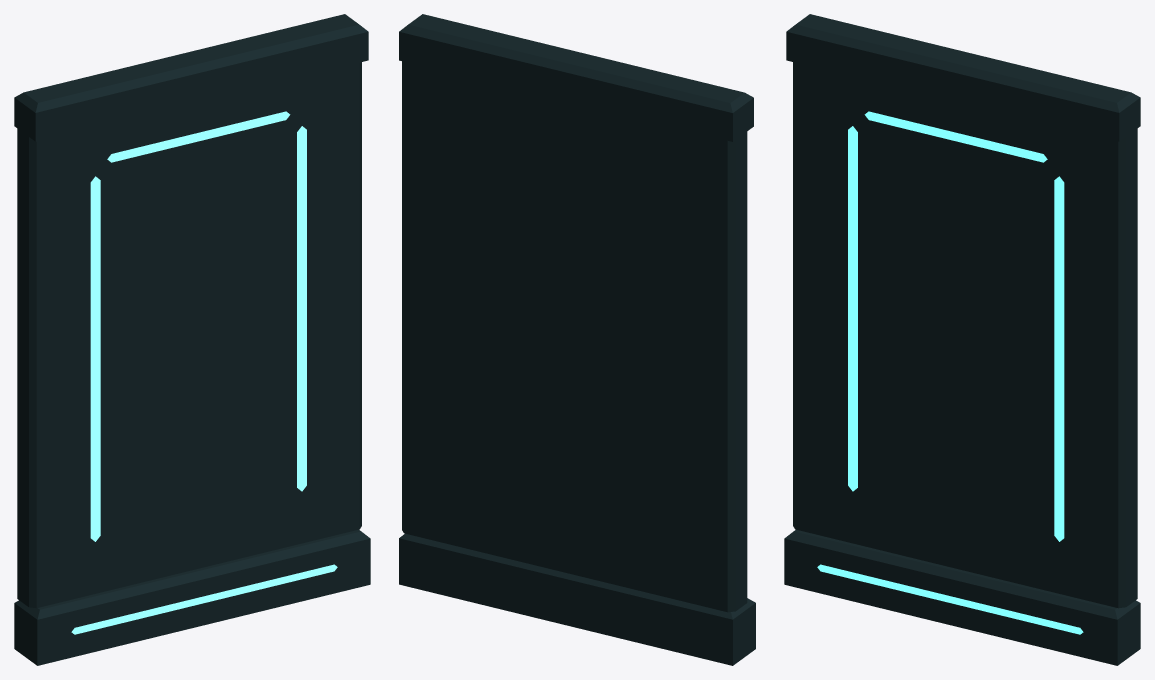
File: wall.glb
The picture shows the model from 3 angles, left to right: view 1: azimuth 30°, elevation 25°; view 2: azimuth 150°, elevation 25°; view 3: azimuth 330°, elevation 25°; orthographic projection.
Visible parts, largest first — view 1: Mesh; view 2: Mesh; view 3: Mesh.
Part boxes in pixels (x1,y1,x2,y2): Mesh: (14,14,370,665); Mesh: (399,14,755,665); Mesh: (784,14,1140,665).
Bounding box in the file's own units: 2 × 3.2 × 0.246.
